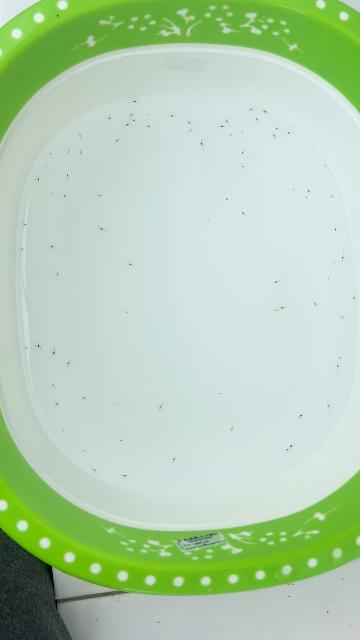benur: (97, 226, 105, 233), (51, 351, 58, 358), (62, 193, 69, 200), (339, 256, 345, 263), (170, 457, 176, 464), (126, 261, 132, 268), (35, 176, 42, 182), (273, 308, 280, 314), (19, 247, 27, 252), (171, 112, 177, 118), (229, 426, 235, 432), (98, 192, 104, 198), (115, 137, 121, 143), (156, 406, 163, 411), (92, 468, 99, 473), (34, 343, 41, 348), (22, 222, 29, 227), (78, 149, 85, 154), (77, 133, 84, 138), (239, 151, 246, 156), (240, 163, 247, 168), (271, 280, 278, 285), (108, 115, 114, 120), (199, 139, 204, 145), (272, 134, 277, 140), (299, 412, 304, 418), (50, 381, 55, 387), (49, 191, 55, 196), (66, 173, 72, 178), (241, 211, 247, 216), (126, 122, 131, 127), (250, 106, 255, 111), (287, 130, 292, 135), (307, 189, 312, 194), (333, 228, 338, 233), (314, 302, 319, 307), (289, 443, 294, 448), (112, 401, 117, 406), (82, 396, 87, 401), (279, 305, 284, 310), (304, 195, 310, 199), (67, 360, 71, 366), (48, 244, 54, 248), (67, 149, 71, 155), (264, 110, 269, 114), (331, 194, 335, 199), (340, 315, 345, 319), (82, 449, 87, 453), (55, 401, 59, 406), (55, 272, 60, 276), (125, 310, 129, 315), (225, 198, 230, 202), (133, 100, 139, 103), (218, 392, 224, 395), (221, 124, 225, 128), (255, 117, 259, 121), (336, 364, 340, 368), (122, 474, 126, 478), (61, 429, 65, 433), (46, 166, 50, 170), (49, 152, 53, 156), (130, 113, 135, 116), (133, 120, 138, 123), (352, 297, 357, 300), (337, 357, 342, 360), (146, 125, 149, 129), (190, 128, 194, 131), (275, 127, 279, 130), (326, 404, 330, 407), (119, 439, 123, 442), (25, 347, 29, 350), (187, 121, 190, 124), (225, 119, 228, 122), (229, 134, 232, 137), (324, 164, 327, 167), (334, 262, 337, 265), (241, 131, 244, 133), (292, 189, 294, 192), (327, 277, 330, 279), (286, 449, 289, 451), (147, 114, 150, 115)
